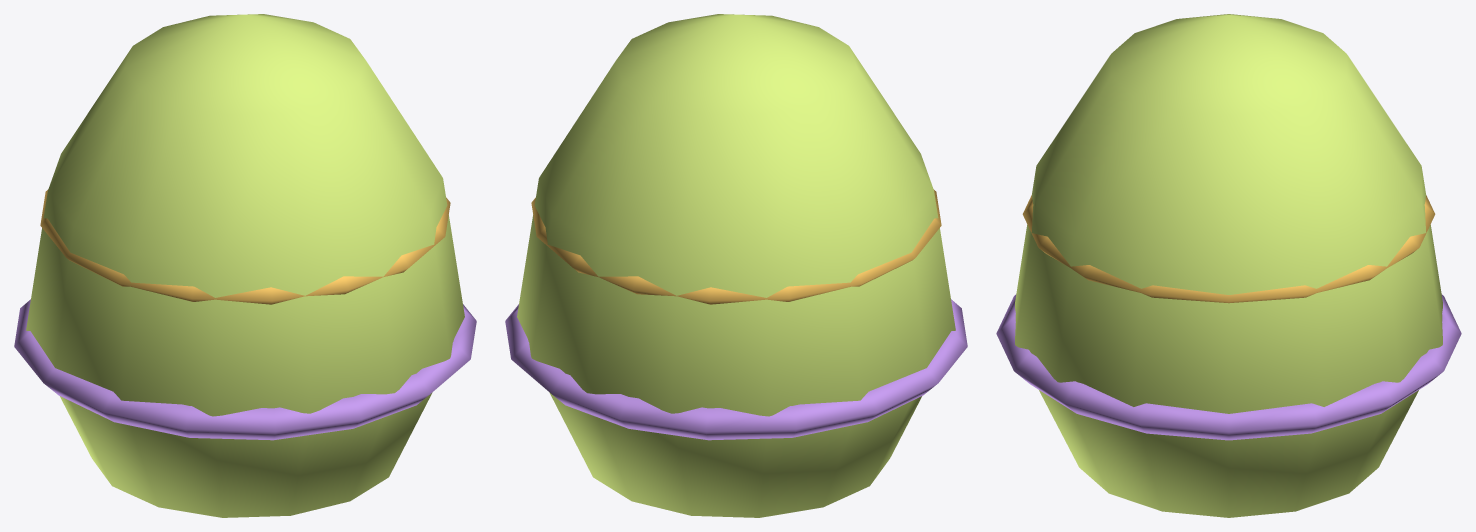
The model's file is EasterEgg3.fbx.
The picture shows the model from 3 angles, left to right: view 1: azimuth 30°, elevation 25°; view 2: azimuth 150°, elevation 25°; view 3: azimuth 270°, elevation 25°; orthographic projection.
Parts seen in each view (by area): view 1: egg3; view 2: egg3; view 3: egg3.
Part boxes in pixels (x1,y1,x2,y2): egg3: (14, 14, 476, 517); egg3: (505, 14, 967, 517); egg3: (996, 14, 1461, 517).
Size of the model in its own units: 0.3604 by 0.3995 by 0.3604.
